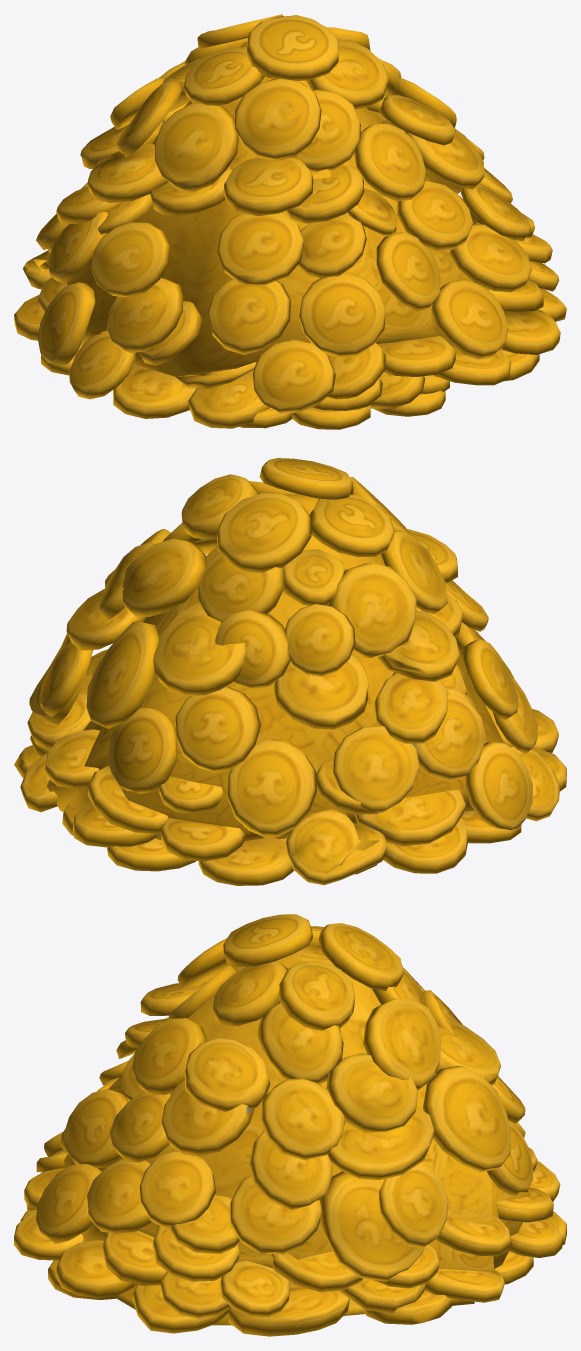
Rendered from coins_heap.glb.
The picture shows the model from 3 angles, top to bottom: view 1: azimuth 30°, elevation 25°; view 2: azimuth 150°, elevation 25°; view 3: azimuth 270°, elevation 25°; orthographic projection.
Size of the model in its own units: 0.936 by 0.5786 by 0.9502.
Materials: 1 (1 with a texture image).
